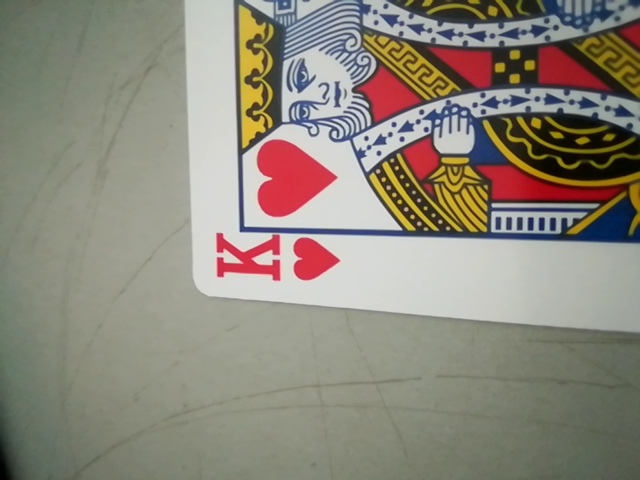hx k: (208, 226, 341, 298)
